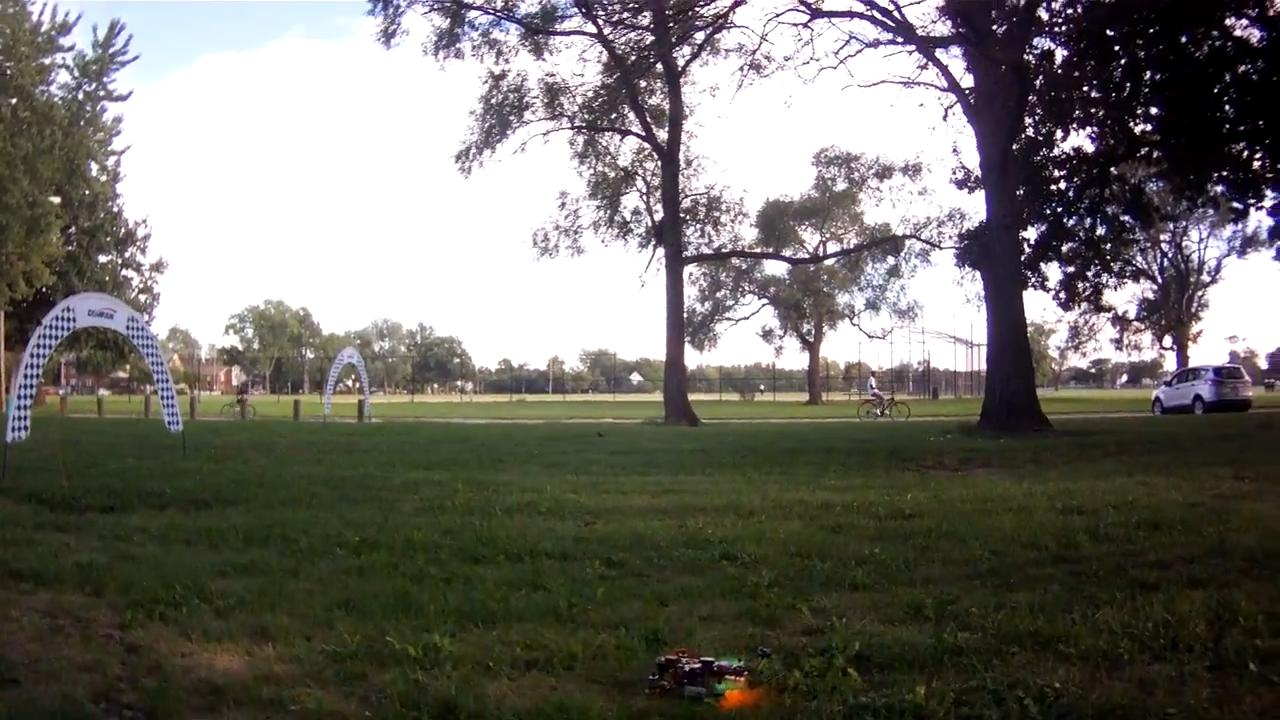gate: (5, 293, 183, 446)
